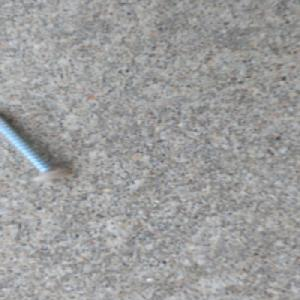Screw: (0, 108, 71, 185)
